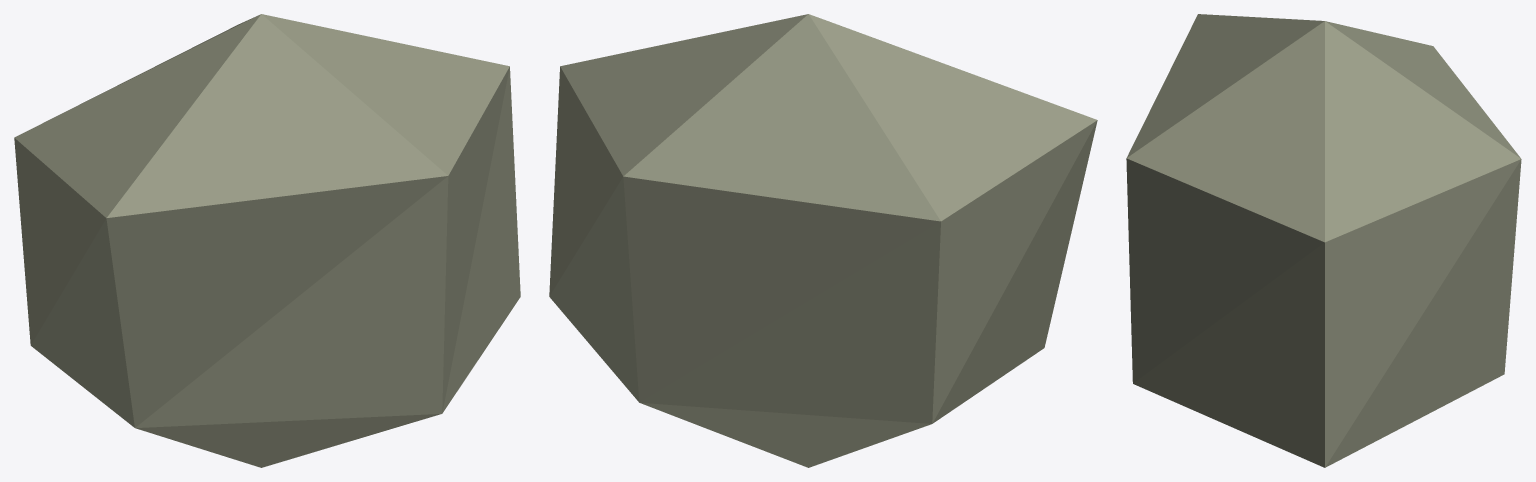
Rendered from rock_boulder_lod2.obj.
3 views of the same model, side by side, from view 1: azimuth 30°, elevation 25°; view 2: azimuth 150°, elevation 25°; view 3: azimuth 270°, elevation 25° (orthographic). The views are drawn at different scales.
Visible parts, largest first — view 1: rock_boulder_lod2; view 2: rock_boulder_lod2; view 3: rock_boulder_lod2.
Boxes of the visible parts, left/top/right/bottom form: rock_boulder_lod2: left=14, top=14, right=520, bottom=467; rock_boulder_lod2: left=549, top=14, right=1097, bottom=467; rock_boulder_lod2: left=1126, top=14, right=1521, bottom=467.
Size of the model in its own units: 2.11 by 1.9 by 1.58.
1 material, 1 textured.
